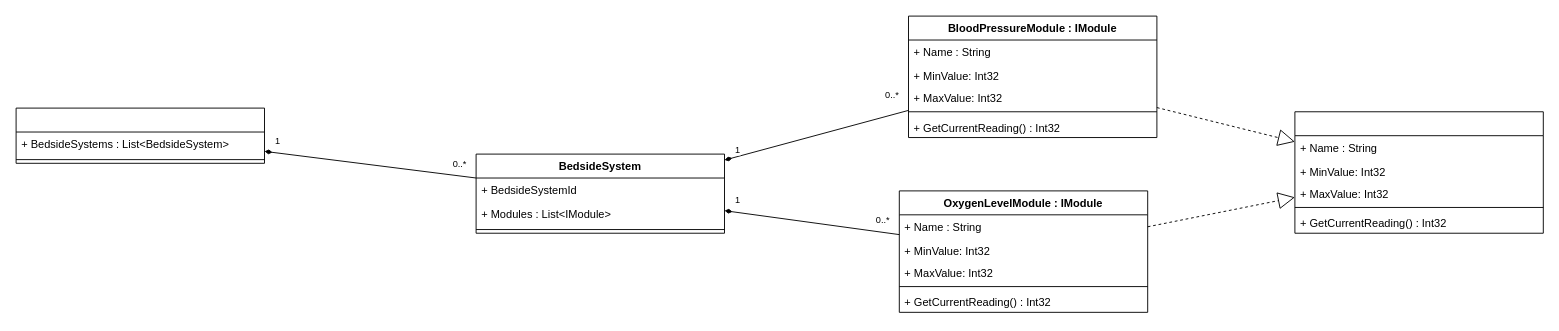
The diagram is 1559 pixels wide and 331 high, and some of its shapes have lost their labels. Each missing label, with the box of its shape:
IModule: (1294, 111, 1543, 233)
Program: (15, 107, 264, 163)
